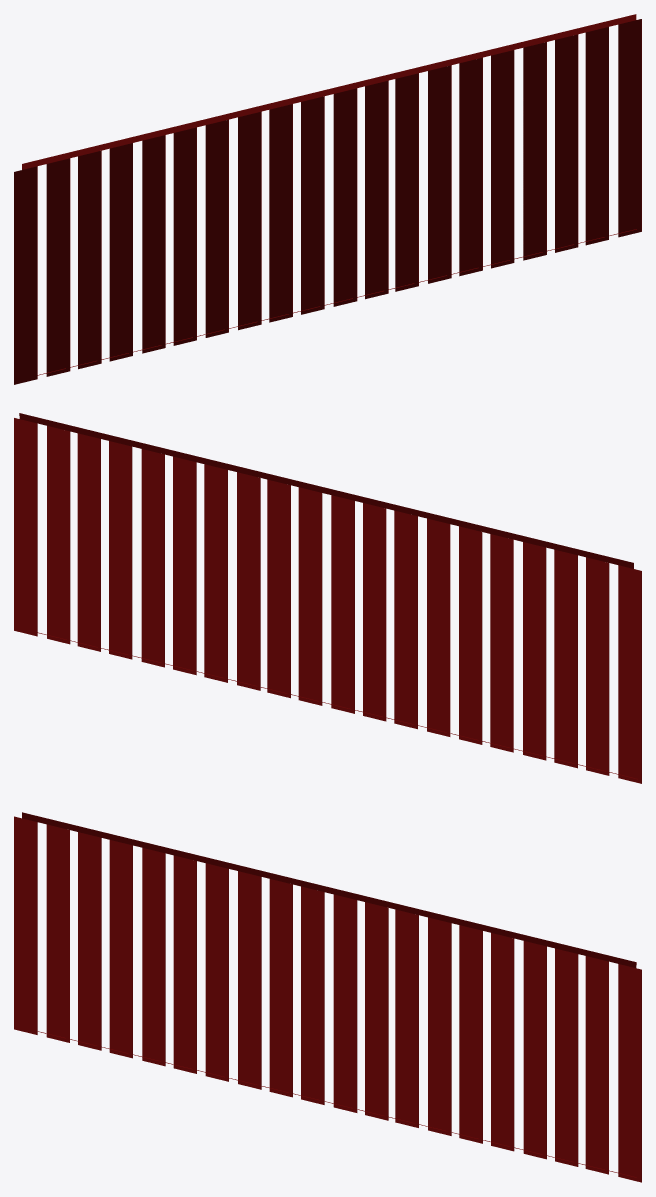
File: Barandilla.obj
The picture shows the model from 3 angles, top to bottom: view 1: azimuth 30°, elevation 25°; view 2: azimuth 150°, elevation 25°; view 3: azimuth 330°, elevation 25°; orthographic projection.
Parts seen in each view (by area): view 1: Blind_1, Rod_3, Cylinder_2; view 2: Blind_1, Rod_3, Cylinder_2; view 3: Blind_1, Rod_3, Cylinder_2.
Part boxes in pixels (x1=…): Blind_1: x1=14, y1=19, x2=641, y2=384; Rod_3: x1=22, y1=14, x2=636, y2=169; Cylinder_2: x1=37, y1=229, x2=636, y2=375; Blind_1: x1=14, y1=418, x2=641, y2=783; Rod_3: x1=19, y1=413, x2=633, y2=568; Cylinder_2: x1=37, y1=632, x2=637, y2=779; Blind_1: x1=14, y1=816, x2=641, y2=1182; Rod_3: x1=22, y1=812, x2=636, y2=967; Cylinder_2: x1=38, y1=1031, x2=636, y2=1177.
Bounding box in the file's own units: 720 × 240 × 0.1.
